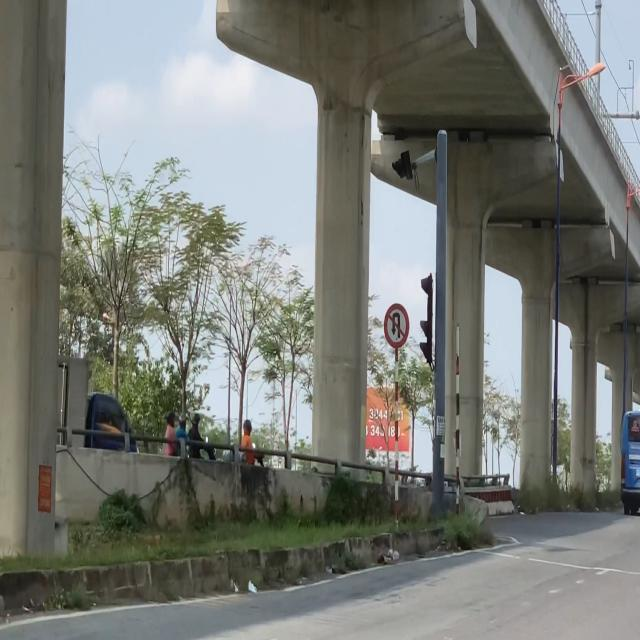Cam quay dau xe: (383, 302, 411, 351)
